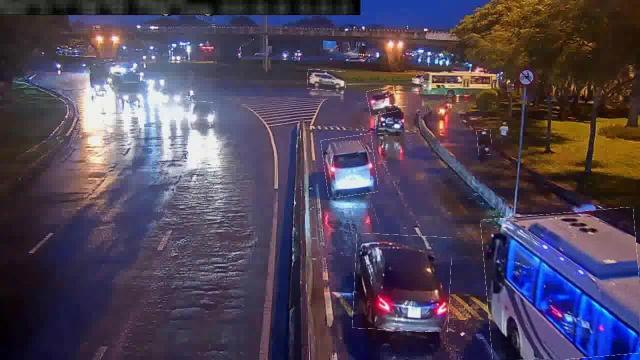Bike: (477, 130, 491, 154)
Bus: (484, 210, 640, 360)
Car: (354, 234, 451, 332), (323, 136, 377, 197), (367, 87, 397, 115), (377, 106, 408, 133), (306, 70, 346, 90), (189, 101, 213, 127)
